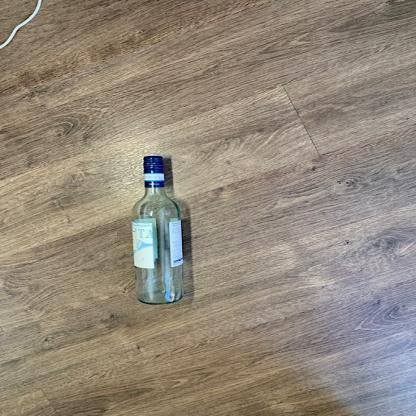trash: (125, 153, 187, 307)
